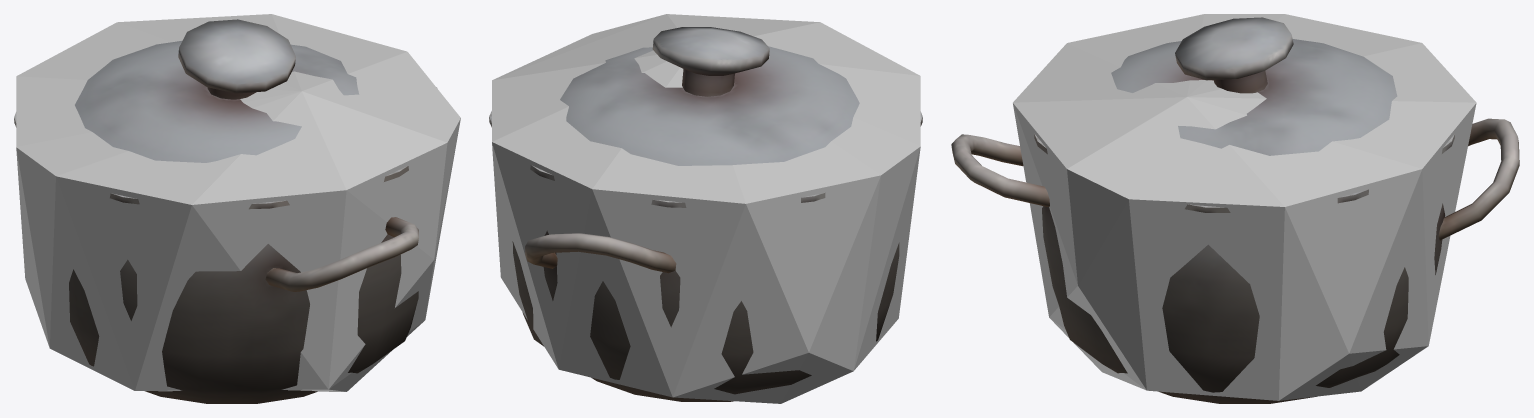
Rendered from SM_Pan01.fbx.
3 views of the same model, side by side, from view 1: azimuth 30°, elevation 25°; view 2: azimuth 150°, elevation 25°; view 3: azimuth 270°, elevation 25° (orthographic).
Visible parts, largest first — view 1: SM_Pan01_ConvexHulls, SM_Pan01; view 2: SM_Pan01_ConvexHulls, SM_Pan01; view 3: SM_Pan01_ConvexHulls, SM_Pan01.
Boxes of the visible parts, <box> form: SM_Pan01_ConvexHulls: <box>16,14,460,391</box>; SM_Pan01: <box>14,19,437,403</box>; SM_Pan01_ConvexHulls: <box>492,14,920,403</box>; SM_Pan01: <box>489,27,922,401</box>; SM_Pan01_ConvexHulls: <box>1013,14,1476,400</box>; SM_Pan01: <box>951,17,1519,403</box>.
Size of the model in its own units: 34.72 by 43.19 by 26.6.
2 materials, 1 textured.
